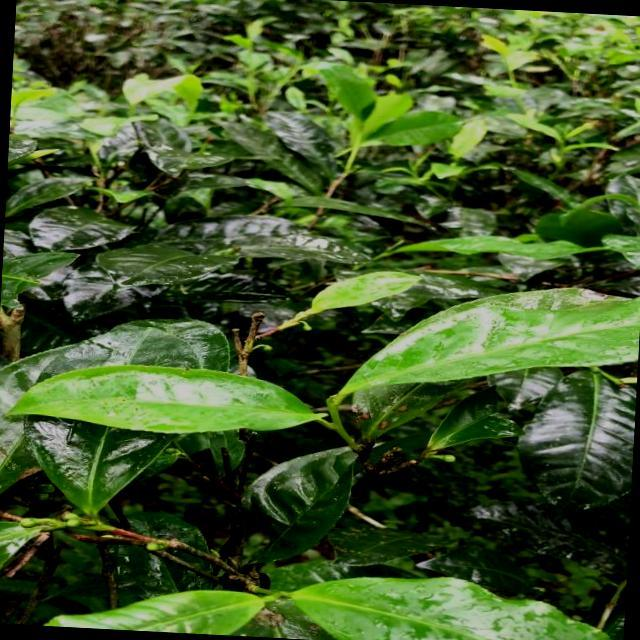Stem: (336, 423, 341, 429)
